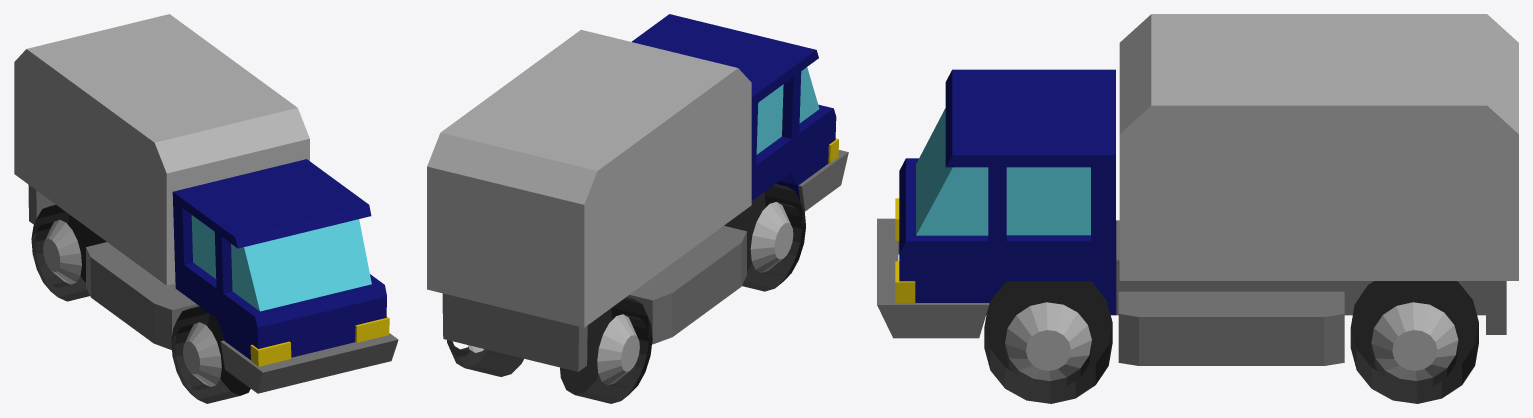
File: truck5.fbx
3 views of the same model, side by side, from view 1: azimuth 30°, elevation 25°; view 2: azimuth 150°, elevation 25°; view 3: azimuth 270°, elevation 25° (orthographic). The views are drawn at different scales.
Visible parts, largest first — view 1: Plane.002, Plane, Plane.005, Plane.003, Circle, Circle.001, Plane.006, Plane.001; view 2: Plane.002, Plane, Circle.001, Plane.005, Plane.001, Circle, Plane.003; view 3: Plane.002, Plane, Plane.005, Circle.001, Circle, Plane.003, Plane.001, Plane.006.
Boxes of the visible parts, x1,y1,x2,y2 form: Plane.002: (14, 14, 309, 285); Plane: (172, 159, 386, 359); Plane.005: (86, 242, 198, 349); Plane.003: (220, 333, 398, 393); Circle: (171, 306, 250, 403); Circle.001: (31, 204, 106, 301); Plane.006: (250, 316, 389, 366); Plane.001: (28, 184, 55, 224); Plane.002: (427, 29, 751, 327); Plane: (631, 14, 836, 201); Circle.001: (447, 297, 652, 403); Plane.005: (626, 226, 746, 344); Plane.001: (442, 293, 587, 371); Circle: (724, 184, 805, 291); Plane.003: (798, 150, 848, 211); Plane.002: (1119, 14, 1518, 280); Plane: (899, 69, 1116, 315); Plane.005: (1118, 291, 1344, 365); Circle.001: (1350, 281, 1478, 403); Circle: (984, 281, 1112, 403); Plane.003: (877, 218, 989, 338); Plane.001: (1116, 220, 1506, 334); Plane.006: (895, 198, 915, 303).
Size of the model in its own units: 207 by 307 by 593.
